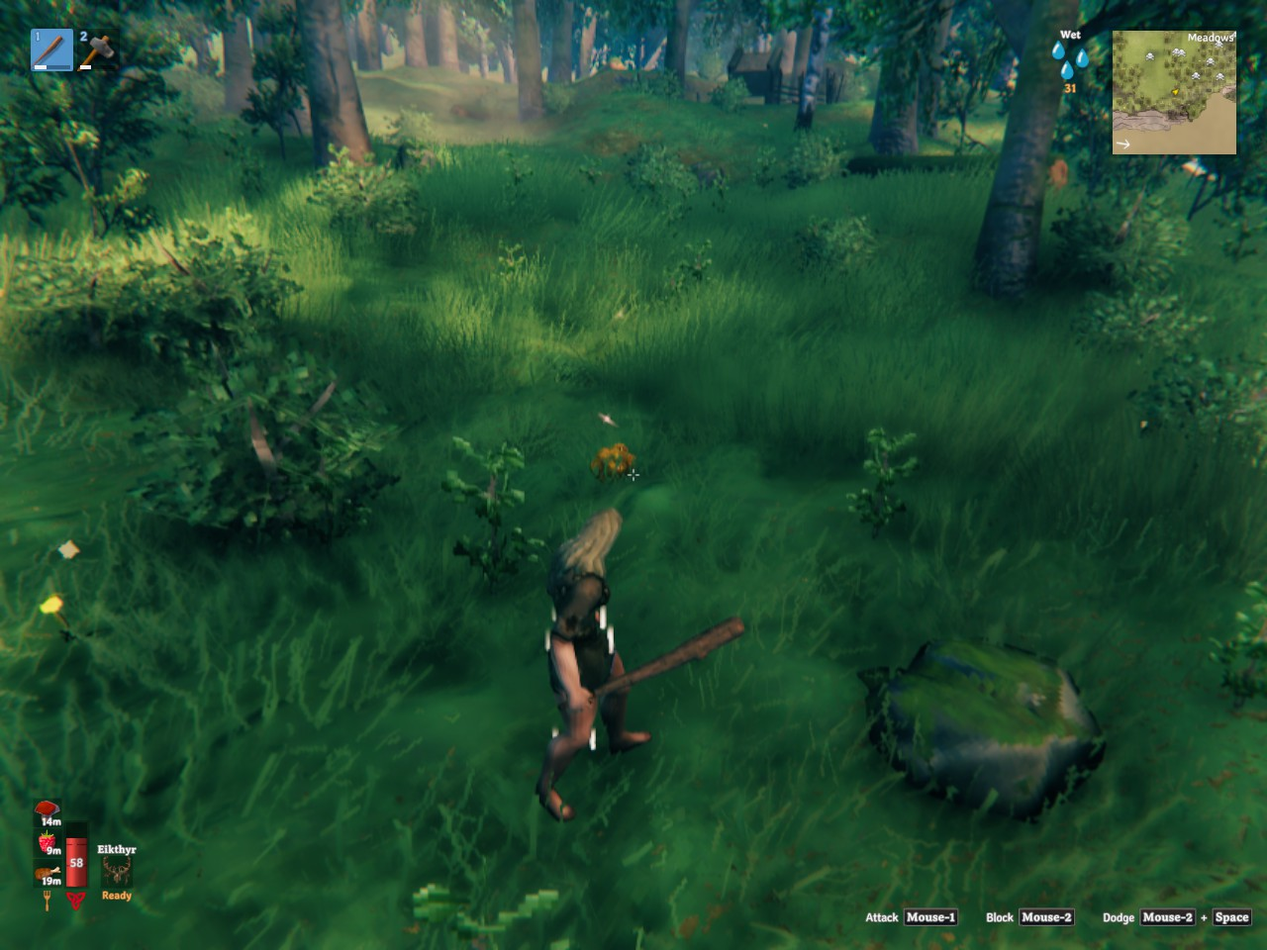Food Indicator: (36, 797, 63, 891)
Health Bar: (63, 820, 90, 891)
Hotbar: (25, 21, 398, 78)
Resin: (590, 442, 635, 481)
Status Indicator: (1042, 22, 1109, 101)
